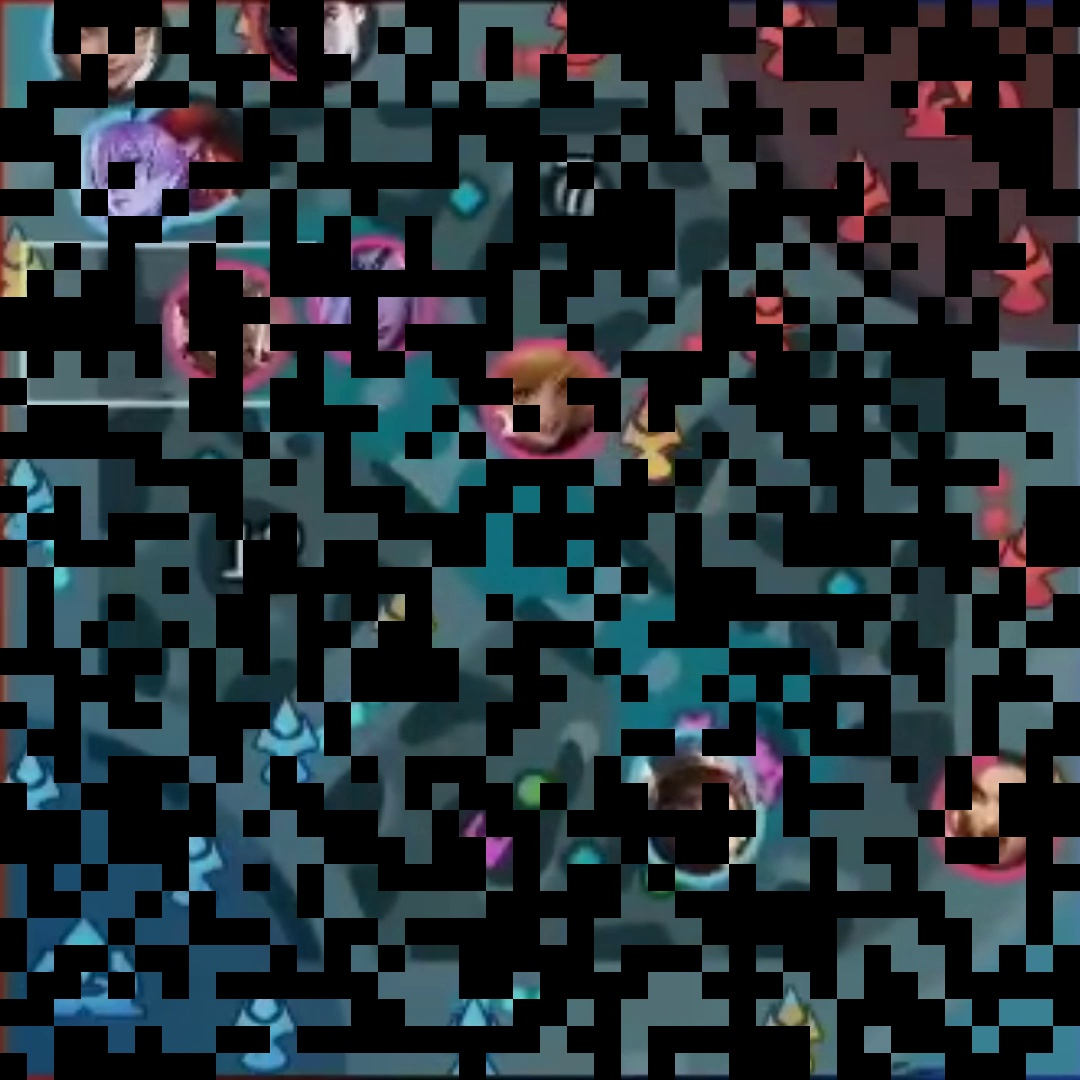Chou: (177, 275, 273, 377)
Claude: (273, 2, 378, 77)
Fanny: (502, 352, 592, 444)
Lapu-Lapu: (659, 786, 742, 859)
Masha: (956, 768, 1039, 863)
Minotaur: (180, 103, 250, 208)
Novaria: (82, 127, 175, 223)
Valentina: (325, 246, 414, 354)
Wanwan: (57, 4, 157, 84)
